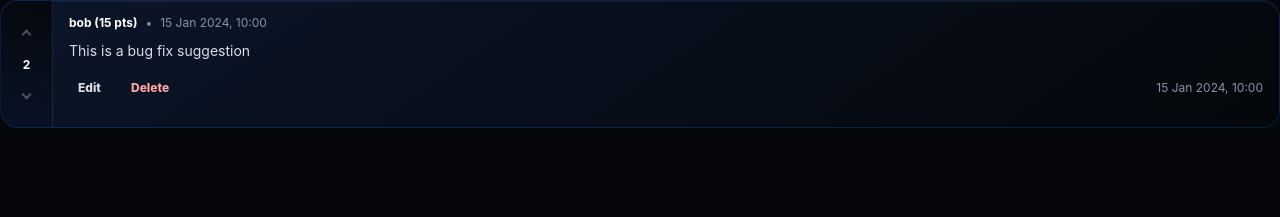
CommentItem — edit mode › hides textarea and restores comment text when Cancel is clicked
Click the button "Edit" at (90, 87), box [69,73,110,101]
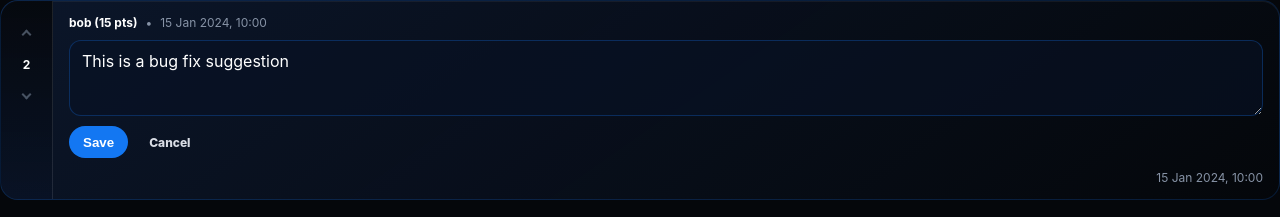
Click the button "Cancel" at (170, 142), box [140,128,200,156]
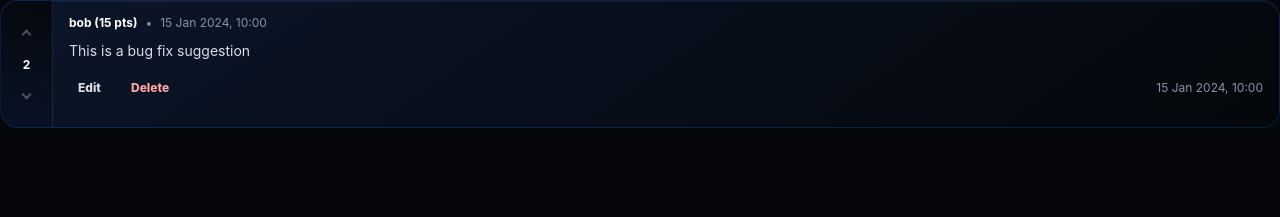
Now the text "This is a bug fix suggestion" is shown, box [69,42,250,59]
